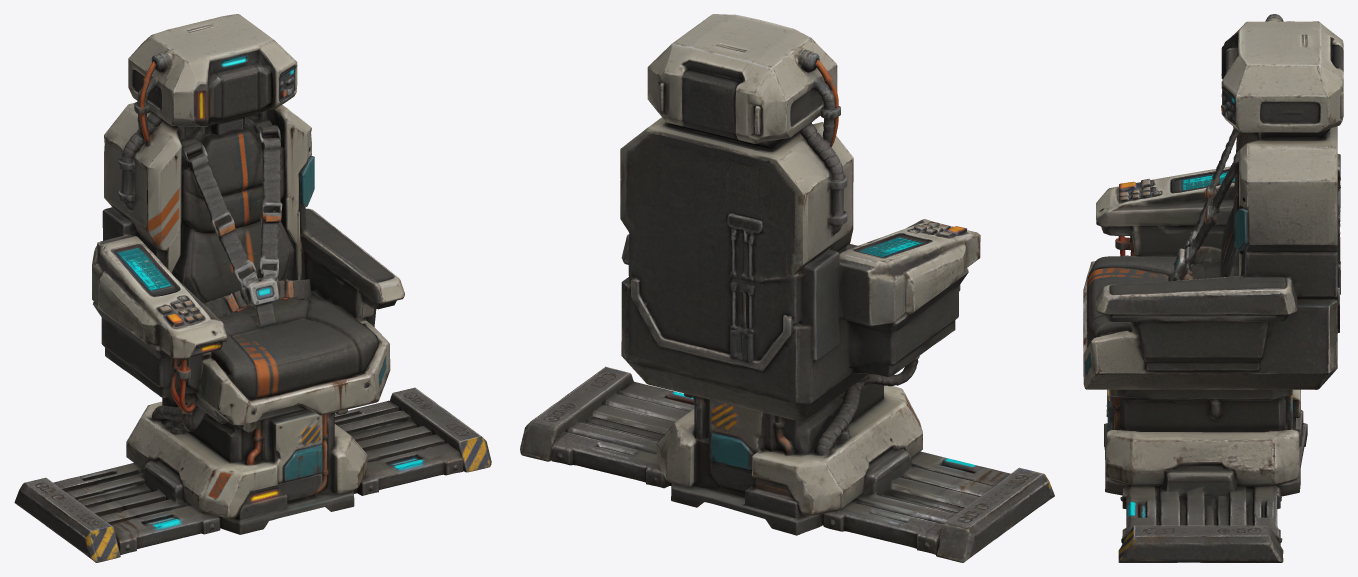
Rendered from chair_command.glb.
3 views of the same model, side by side, from view 1: azimuth 30°, elevation 25°; view 2: azimuth 150°, elevation 25°; view 3: azimuth 270°, elevation 25° (orthographic). The views are drawn at different scales.
Parts seen in each view (by area): view 1: tripo_node_d6d83e45-b2a9-43e5-82ba-4171afcc2530; view 2: tripo_node_d6d83e45-b2a9-43e5-82ba-4171afcc2530; view 3: tripo_node_d6d83e45-b2a9-43e5-82ba-4171afcc2530.
Boxes of the visible parts, x1,y1,x2,y2 form: tripo_node_d6d83e45-b2a9-43e5-82ba-4171afcc2530: (14,14,491,562); tripo_node_d6d83e45-b2a9-43e5-82ba-4171afcc2530: (520,14,1054,562); tripo_node_d6d83e45-b2a9-43e5-82ba-4171afcc2530: (1083,14,1343,562).
Size of the model in its own units: 0.9992 by 0.9998 by 0.5564.
1 material, 1 textured.
